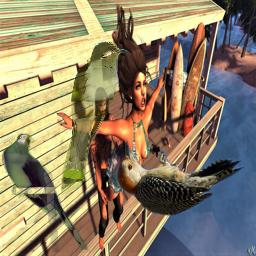Cuckoo: (2, 133, 94, 252), (60, 41, 129, 195)
Woodpecker: (106, 136, 250, 217)
